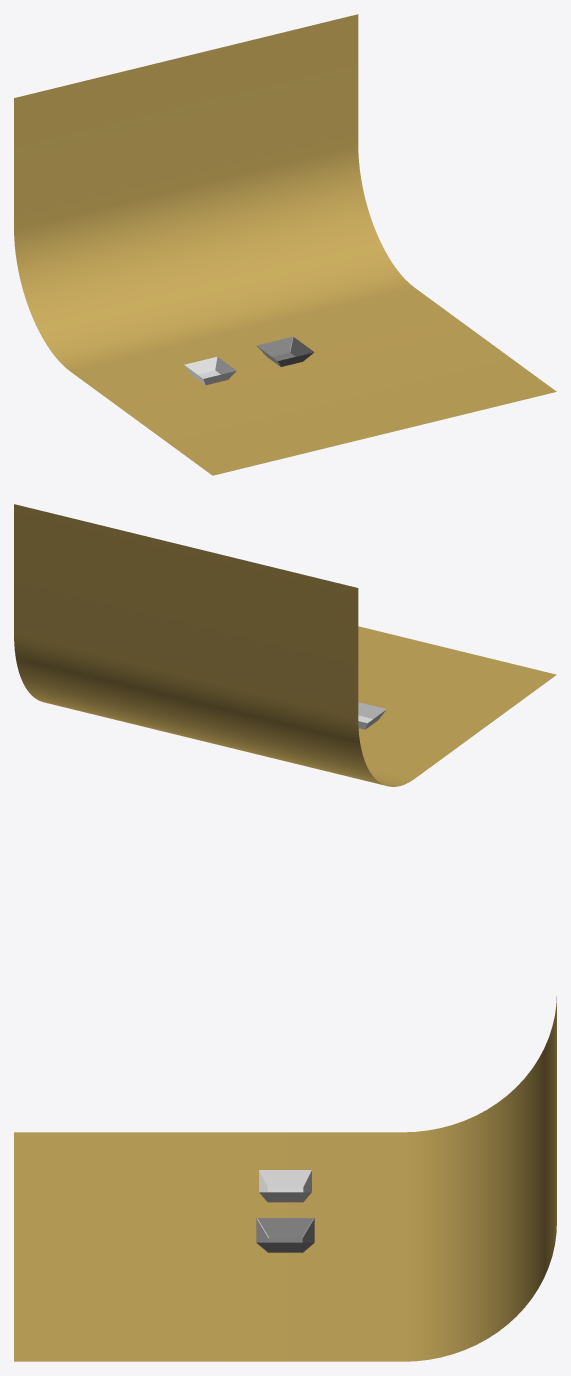
File: sheet_metal_5.fbx
3 renders of one model, top to bottom at view 1: azimuth 30°, elevation 25°; view 2: azimuth 150°, elevation 25°; view 3: azimuth 270°, elevation 25°, orthographic. The views are drawn at different scales.
Visible parts, largest first — view 1: Plane, sheet_metal, Plane.001; view 2: Plane, Plane.001; view 3: Plane, sheet_metal, Plane.001.
Boxes of the visible parts, x1=… form: Plane: x1=14, y1=14, x2=556, y2=475; sheet_metal: x1=256, y1=336, x2=314, y2=366; Plane.001: x1=184, y1=356, x2=236, y2=385; Plane: x1=14, y1=504, x2=556, y2=786; Plane.001: x1=358, y1=702, x2=386, y2=729; Plane: x1=14, y1=996, x2=556, y2=1361; sheet_metal: x1=256, y1=1218, x2=314, y2=1252; Plane.001: x1=259, y1=1170, x2=311, y2=1202.
Bounding box in the file's own units: 314 × 202 × 314.
